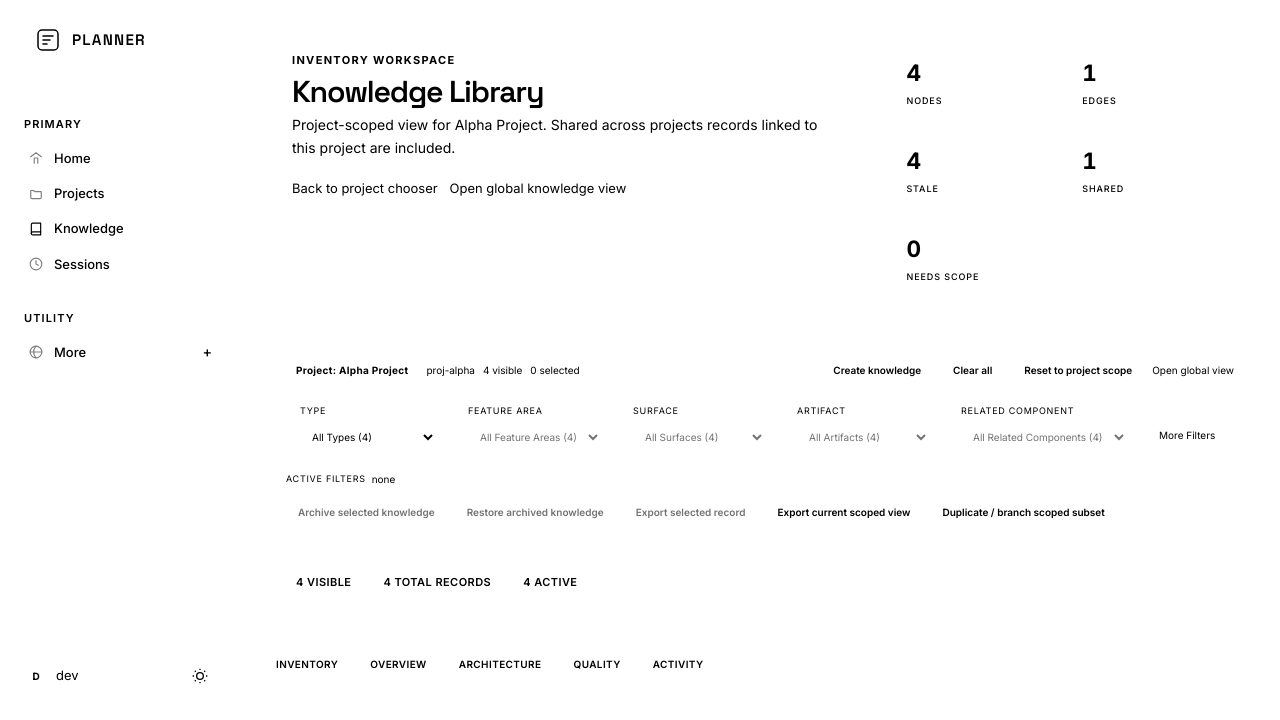
it: KnowledgeLibraryPage phase 2 routing › shows project activity panel when the activity section is selected
The image size is (1280, 720).
(page scrolled)
Check: the text "Project: Alpha Project" is shown, box [296, 364, 408, 376]
Click the button "Activity" at [678, 664], box [641, 650, 716, 679]
(page scrolled)
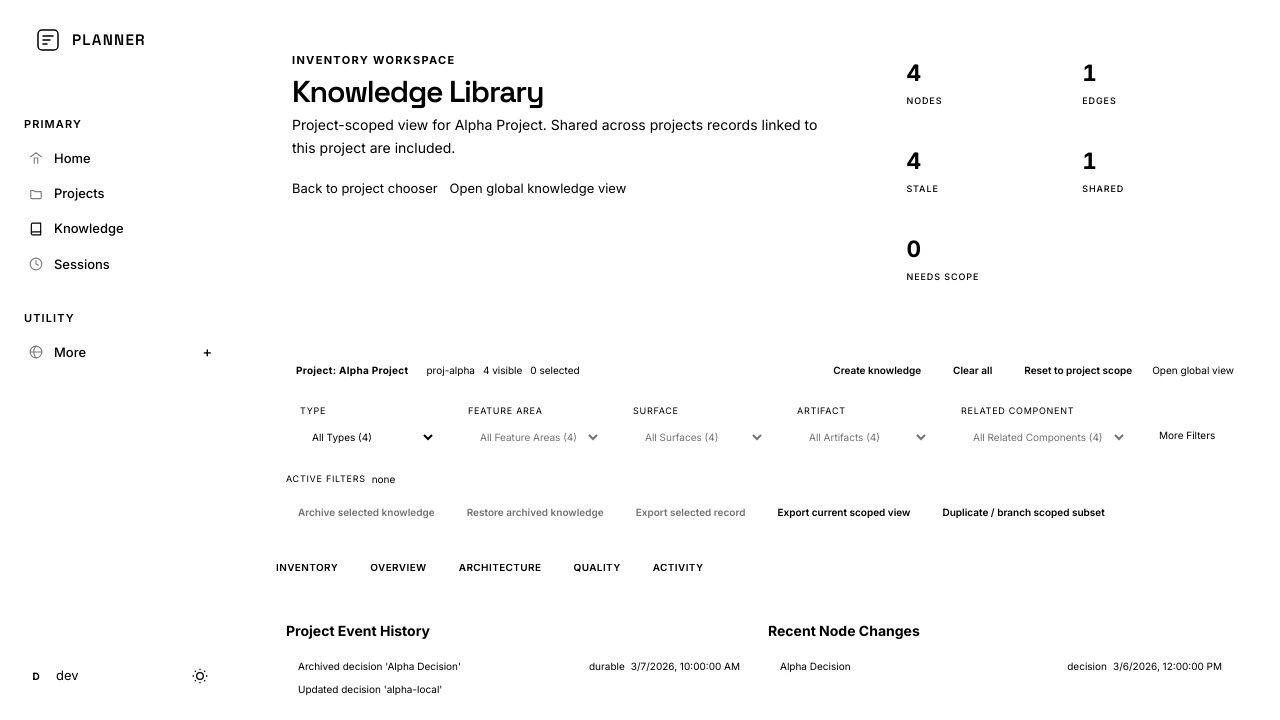
Check: the heading "Project Event History" is shown, box [286, 622, 430, 639]
Check: the heading "Recent Node Changes" is shown, box [768, 622, 920, 639]
